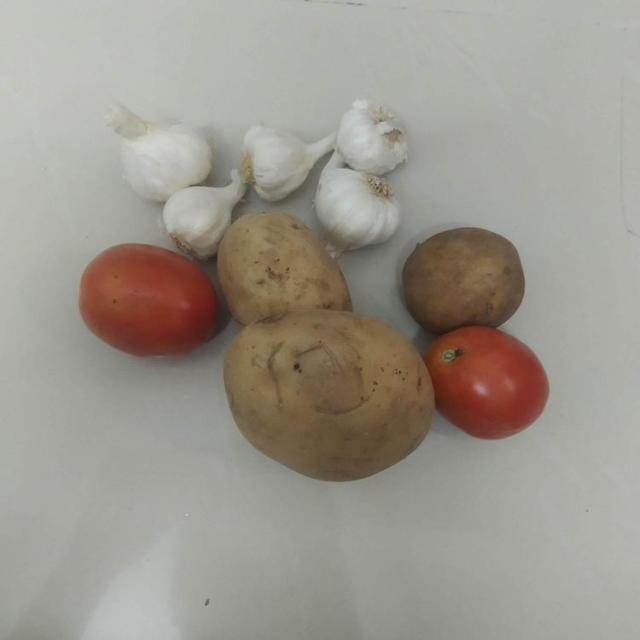Organik: (221, 317, 439, 488), (60, 238, 229, 356), (217, 204, 348, 329), (397, 225, 542, 331), (440, 324, 550, 441), (80, 124, 216, 202), (235, 128, 322, 199), (321, 170, 399, 248), (335, 98, 407, 176), (158, 182, 233, 254)
